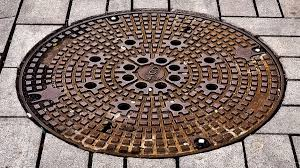Manhole-Closed: (17, 7, 286, 157)
